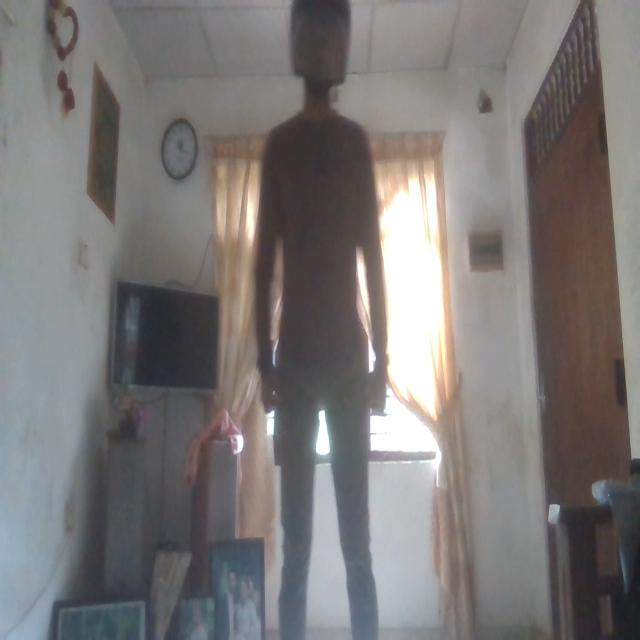Helmet_Wearer: (288, 0, 349, 123)
Person: (250, 0, 390, 640)
